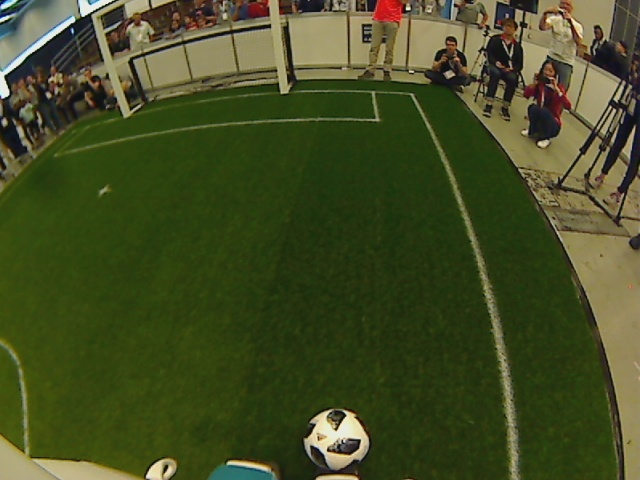ball: (299, 406, 372, 473)
